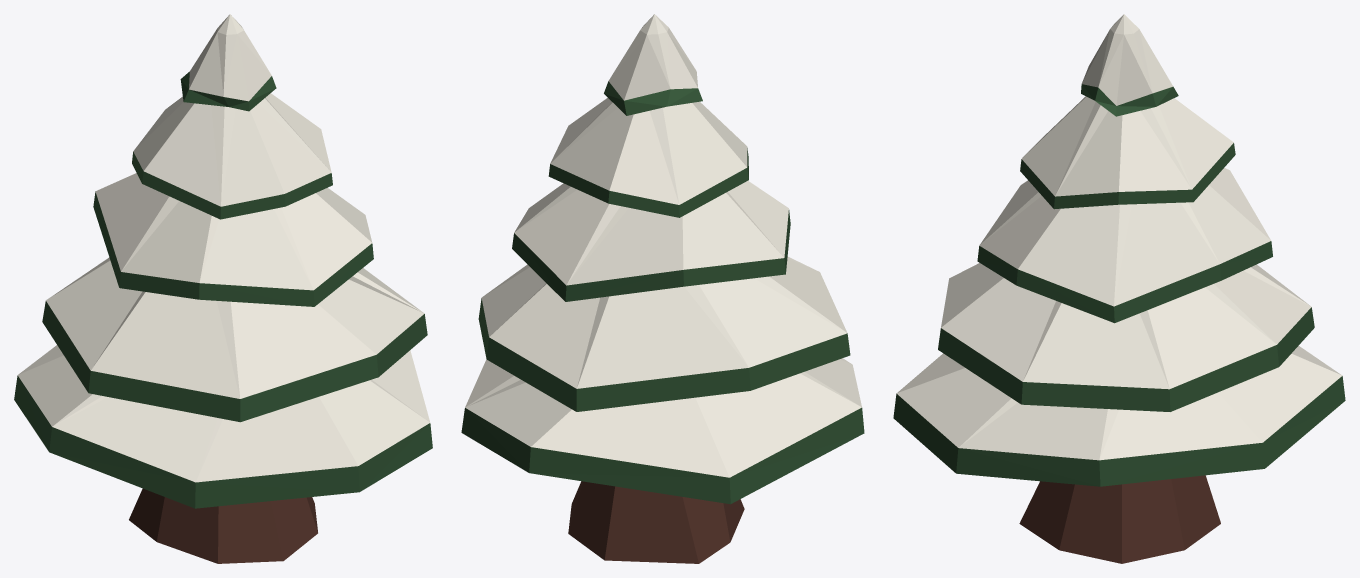
File: xmas tree witn snow.fbx
3 renders of one model, left to right at view 1: azimuth 30°, elevation 25°; view 2: azimuth 150°, elevation 25°; view 3: azimuth 270°, elevation 25°, orthographic.
Visible parts, largest first — view 1: Cube.001; view 2: Cube.001; view 3: Cube.001.
Part boxes in pixels (box(x1,y1,x2,y2)): Cube.001: box(14, 14, 432, 563); Cube.001: box(461, 14, 864, 563); Cube.001: box(893, 14, 1345, 563).
Size of the model in its own units: 671 by 894 by 720.
